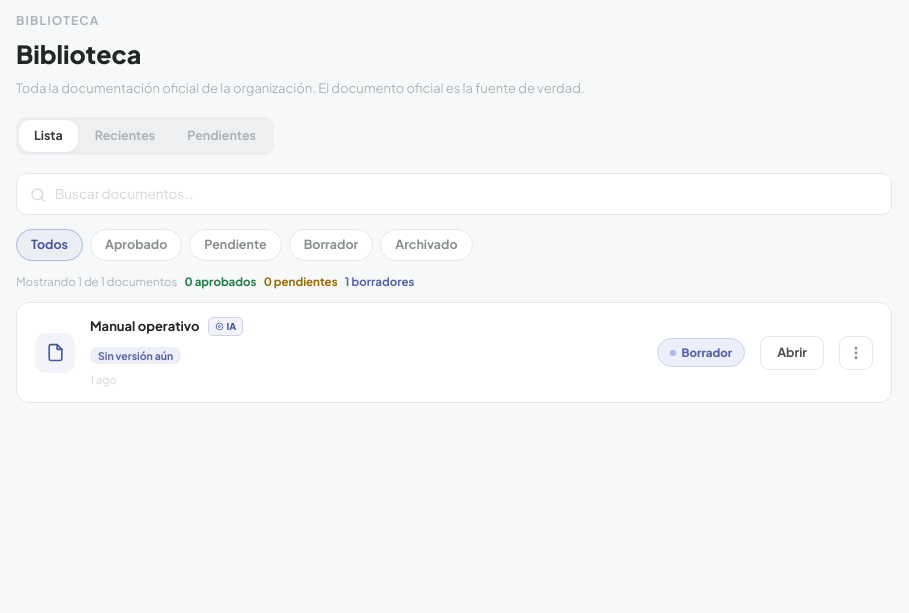
Test: WorkspacePage — menú contextual de la Biblioteca › el menú no muestra "Eliminar" sin el permiso documents.delete, ni acciones sin implementar
This screenshot has width=909, height=613.
Click the button named "Más opciones": (856, 353) [839,336,873,370]
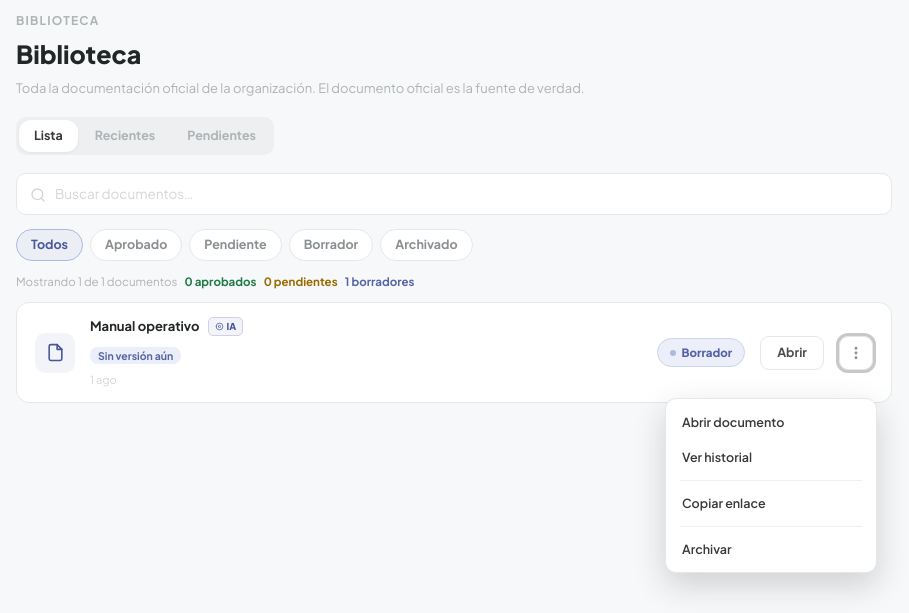
expect the menu item "Abrir documento" is shown: met, box [672,405,870,440]
